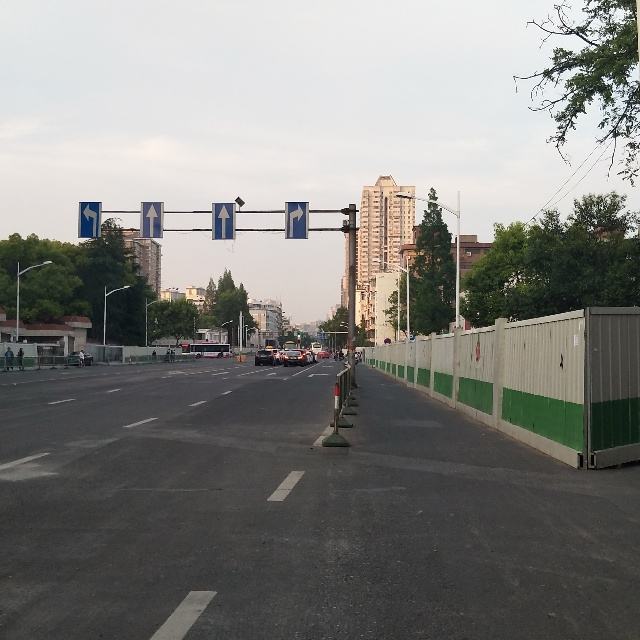left: (80, 201, 101, 238)
right: (286, 202, 307, 238)
straight: (212, 203, 235, 239), (142, 203, 164, 238)
